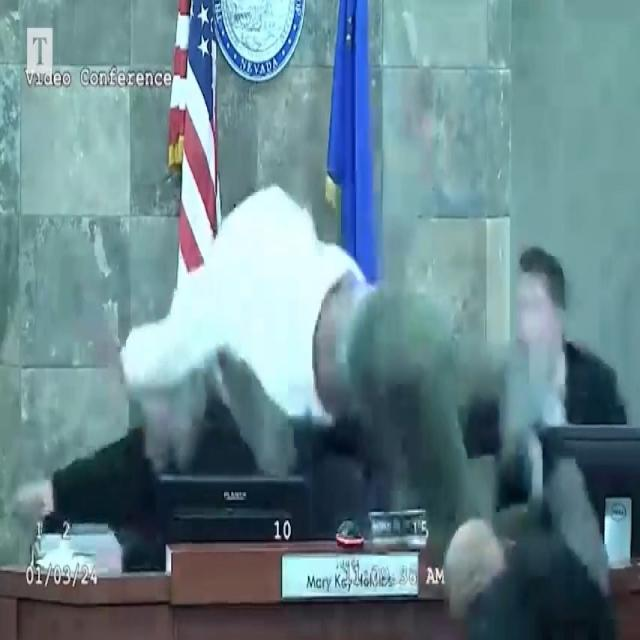fight: (13, 181, 481, 518)
non-fight: (490, 241, 622, 504)
